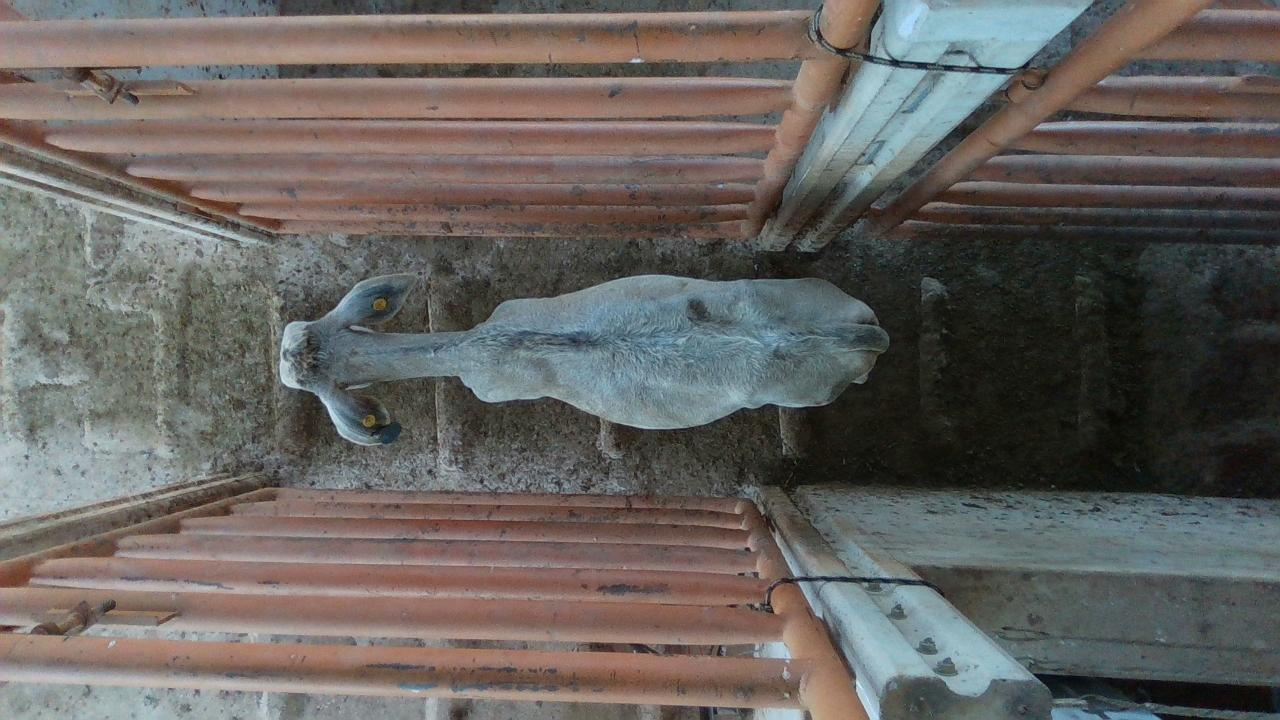cattle: (278, 270, 891, 447)
